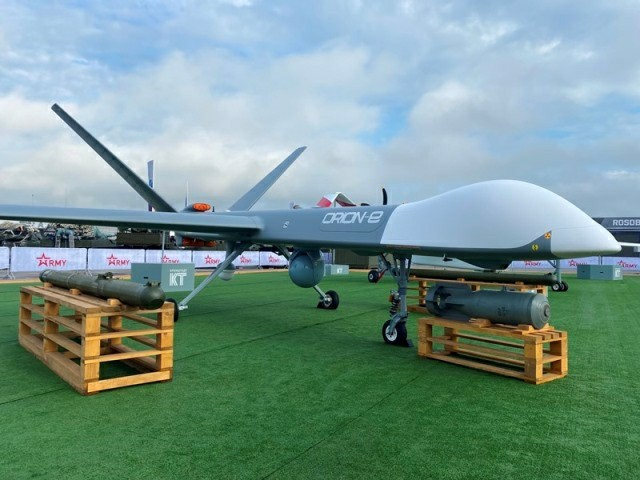maybay_khongnguoilai: (20, 101, 619, 321)
